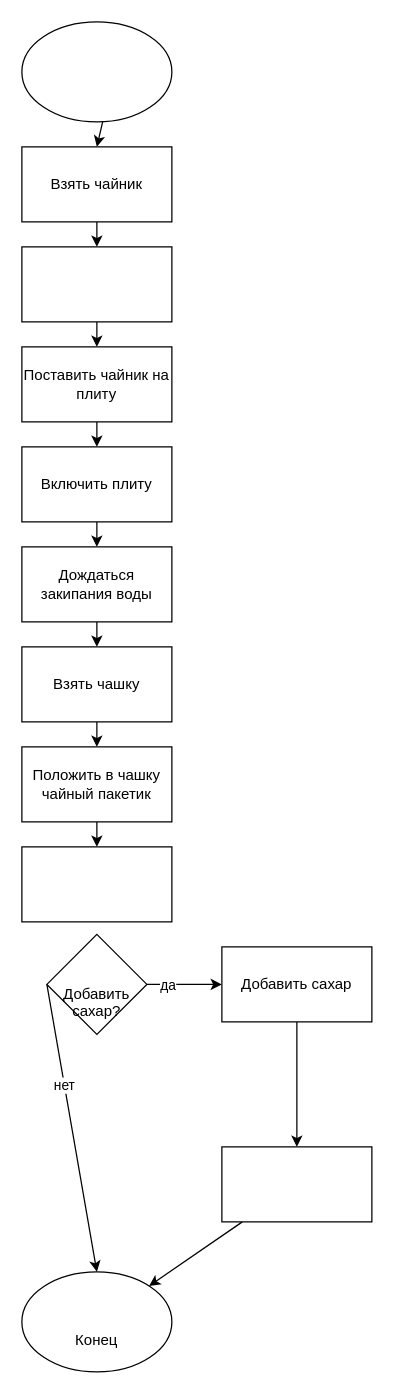
The diagram is 394 pixels wide and 1394 high, and some of its shapes have lost their labels. Here are the shapes that lost their labels. From the top down, the centre of each, then its label:
At [96,71]: "Начало".
At [96,284]: "Налить в чайник воду".
At [96,884]: "Налить кипяток в чашку".
At [296,1184]: "Размешать".
